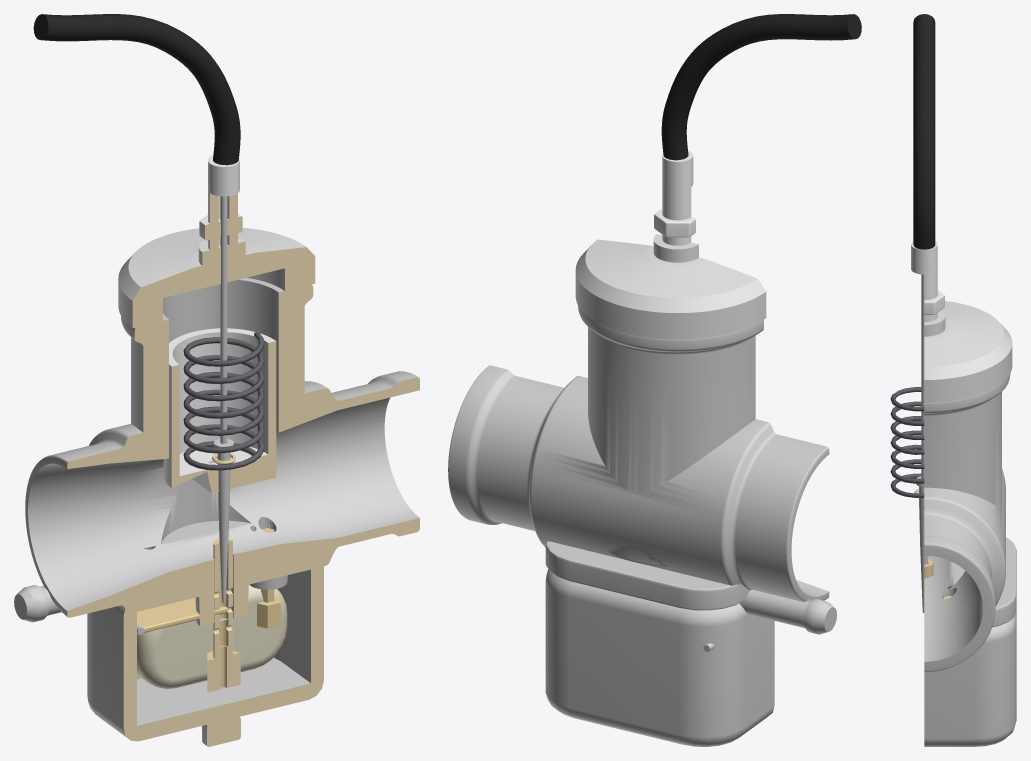
File: carb.glb
3 views of the same model, side by side, from view 1: azimuth 30°, elevation 25°; view 2: azimuth 150°, elevation 25°; view 3: azimuth 270°, elevation 25° (orthographic). The views are drawn at different scales.
Visible parts, largest first — view 1: carb__body, carb__float_bowl, carb__top_cap, carb__slide, carb__throttle_cable, carb__float, carb__return_spring, carb__inner_cable, carb__needle_jet, carb__needle, carb__main_jet, carb__pilot_jet; view 2: carb__body, carb__float_bowl, carb__top_cap, carb__throttle_cable; view 3: carb__body, carb__float_bowl, carb__top_cap, carb__throttle_cable, carb__return_spring, carb__inner_cable, carb__needle.
Boxes of the visible parts, x1,y1,x2,y2 form: carb__body: (14,278,419,625); carb__float_bowl: (87,554,323,746); carb__top_cap: (118,188,315,328); carb__slide: (163,328,276,493); carb__throttle_cable: (33,14,240,196); carb__float: (137,585,287,688); carb__return_spring: (183,331,264,470); carb__inner_cable: (220,196,227,443); carb__needle_jet: (213,539,232,658); carb__needle: (212,438,235,602); carb__main_jet: (207,645,240,692); carb__pilot_jet: (257,528,280,628); carb__body: (448,306,836,634); carb__float_bowl: (545,569,774,746); carb__top_cap: (575,183,766,339); carb__throttle_cable: (661,14,861,190); carb__body: (924,374,1016,671); carb__float_bowl: (924,610,1016,746); carb__top_cap: (924,268,1012,402); carb__throttle_cable: (911,14,937,274); carb__return_spring: (890,387,924,509); carb__inner_cable: (921,274,924,478); carb__needle: (914,476,928,612).
Bounding box in the file's own units: 8.78 × 16.95 × 3.01.
